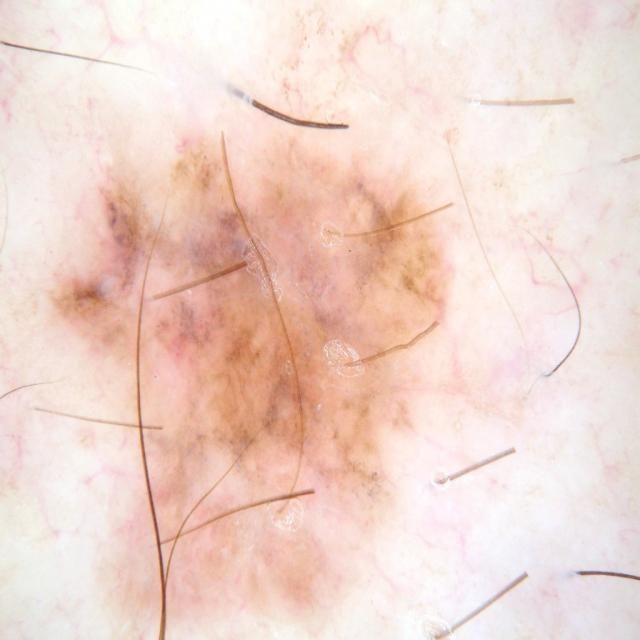Skin-Cancer Melanoma: (16, 46, 571, 640)
